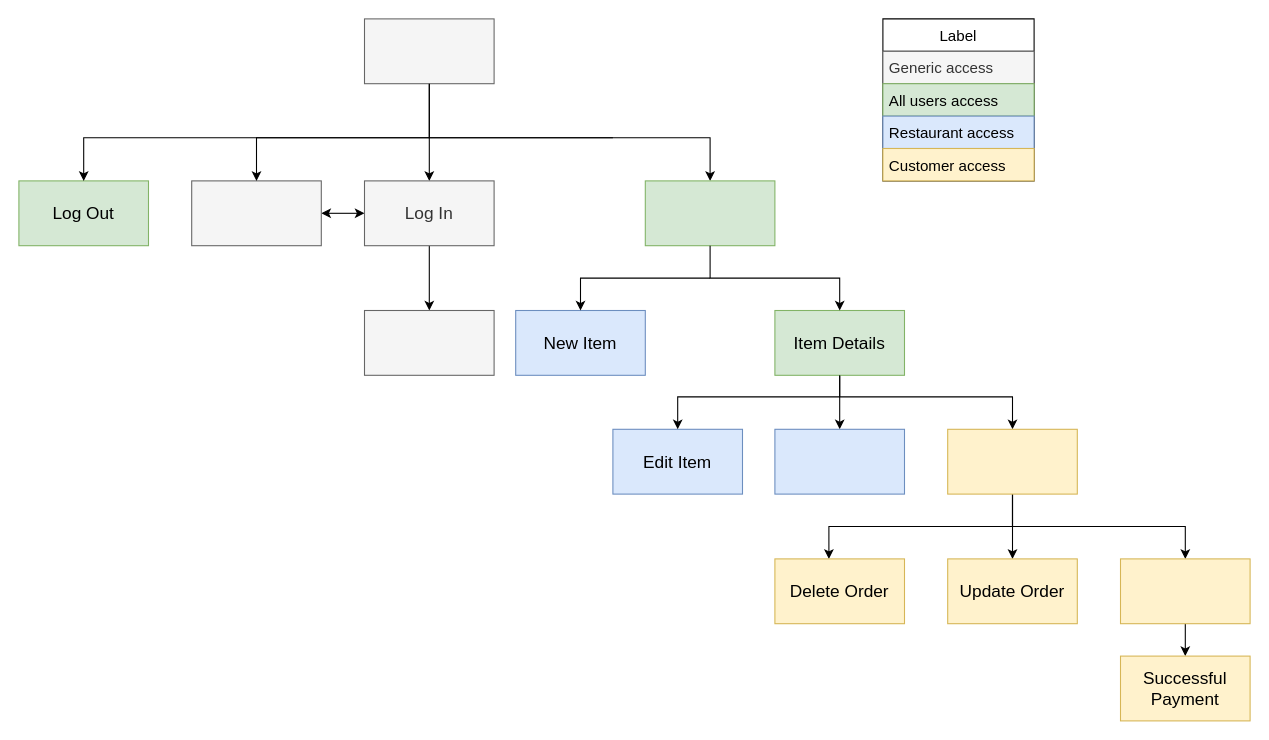
The diagram is 1269 pixels wide and 740 high, and some of its shapes have lost their labels. Each missing label, with the centre of its shape:
"Checkout" belongs at point (1184, 591).
"Delete Item" belongs at point (839, 461).
"Forgot Password" belongs at point (428, 342).
"Home" belongs at point (428, 51).
"Menu Items" belongs at point (709, 213).
"Order" belongs at point (1012, 461).
"Sign Up" belongs at point (256, 213).
